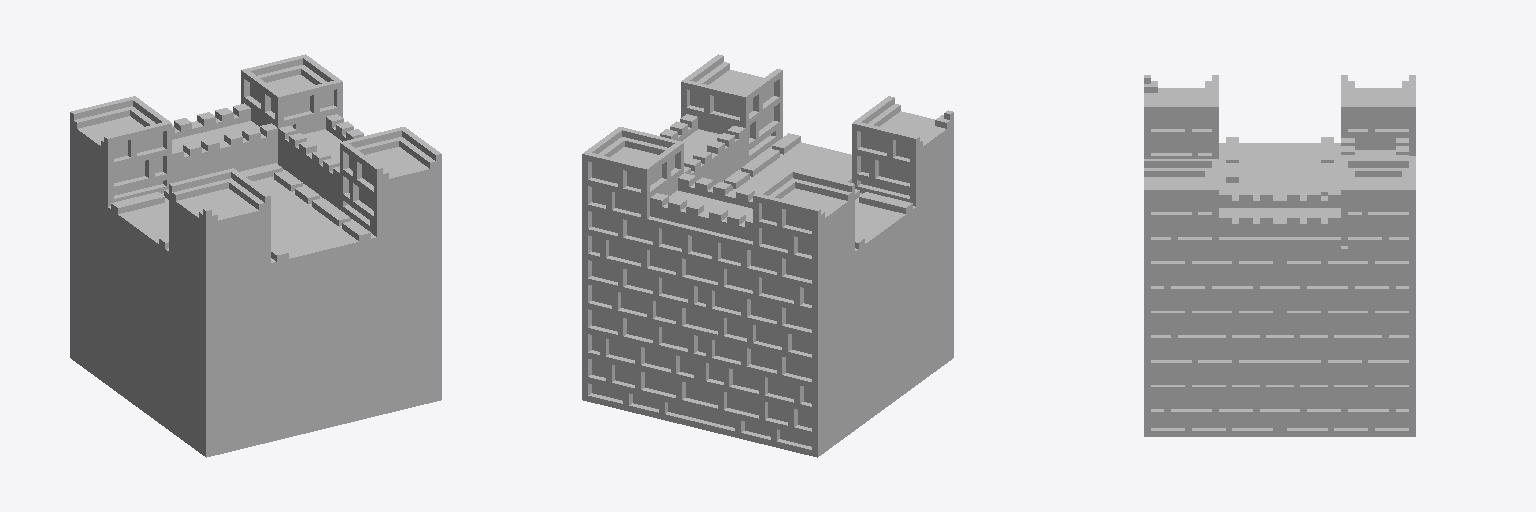
Rendered from corner.obj.
The picture shows the model from 3 angles: view 1: azimuth 30°, elevation 25°; view 2: azimuth 150°, elevation 25°; view 3: azimuth 270°, elevation 25°; orthographic projection.
Bounding box in the file's own units: 40 × 40 × 40.